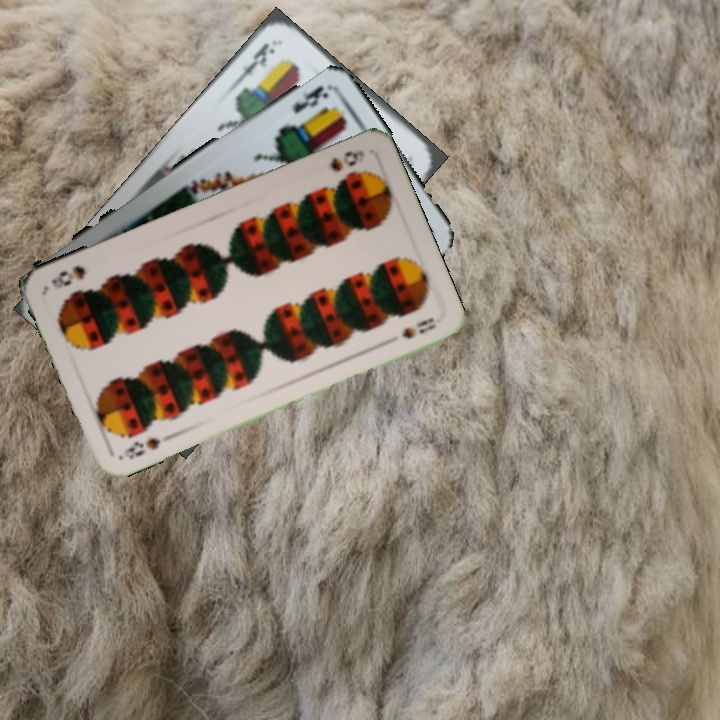EK: (232, 39, 278, 86), (289, 81, 331, 116)
S8: (120, 433, 163, 462), (326, 145, 367, 175)
